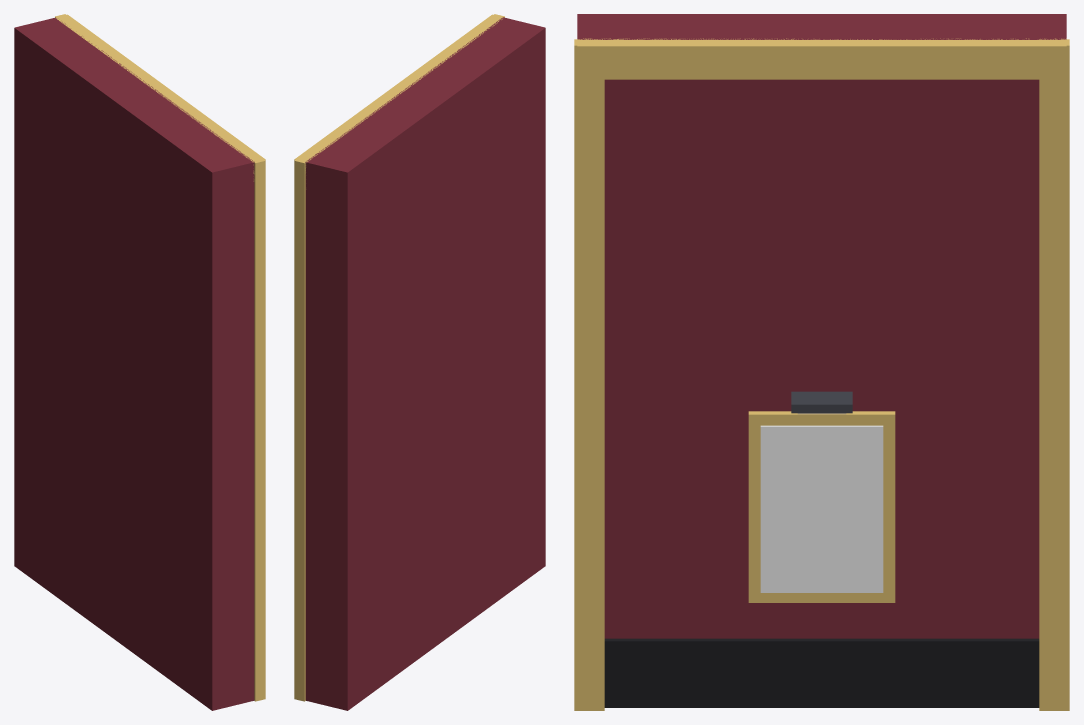
The model's file is SM_CinemaFacadeSide.fbx.
3 views of the same model, side by side, from view 1: azimuth 30°, elevation 25°; view 2: azimuth 150°, elevation 25°; view 3: azimuth 270°, elevation 25° (orthographic). The views are drawn at different scales.
Parts seen in each view (by area): view 1: SM_CinemaFacadeSide; view 2: SM_CinemaFacadeSide; view 3: SM_CinemaFacadeSide.
Part boxes in pixels (x1,y1,x2,y2): SM_CinemaFacadeSide: (14,14,265,710); SM_CinemaFacadeSide: (294,14,545,710); SM_CinemaFacadeSide: (574,14,1069,710).
Bounding box in the file's own units: 77.5 × 600 × 405.
